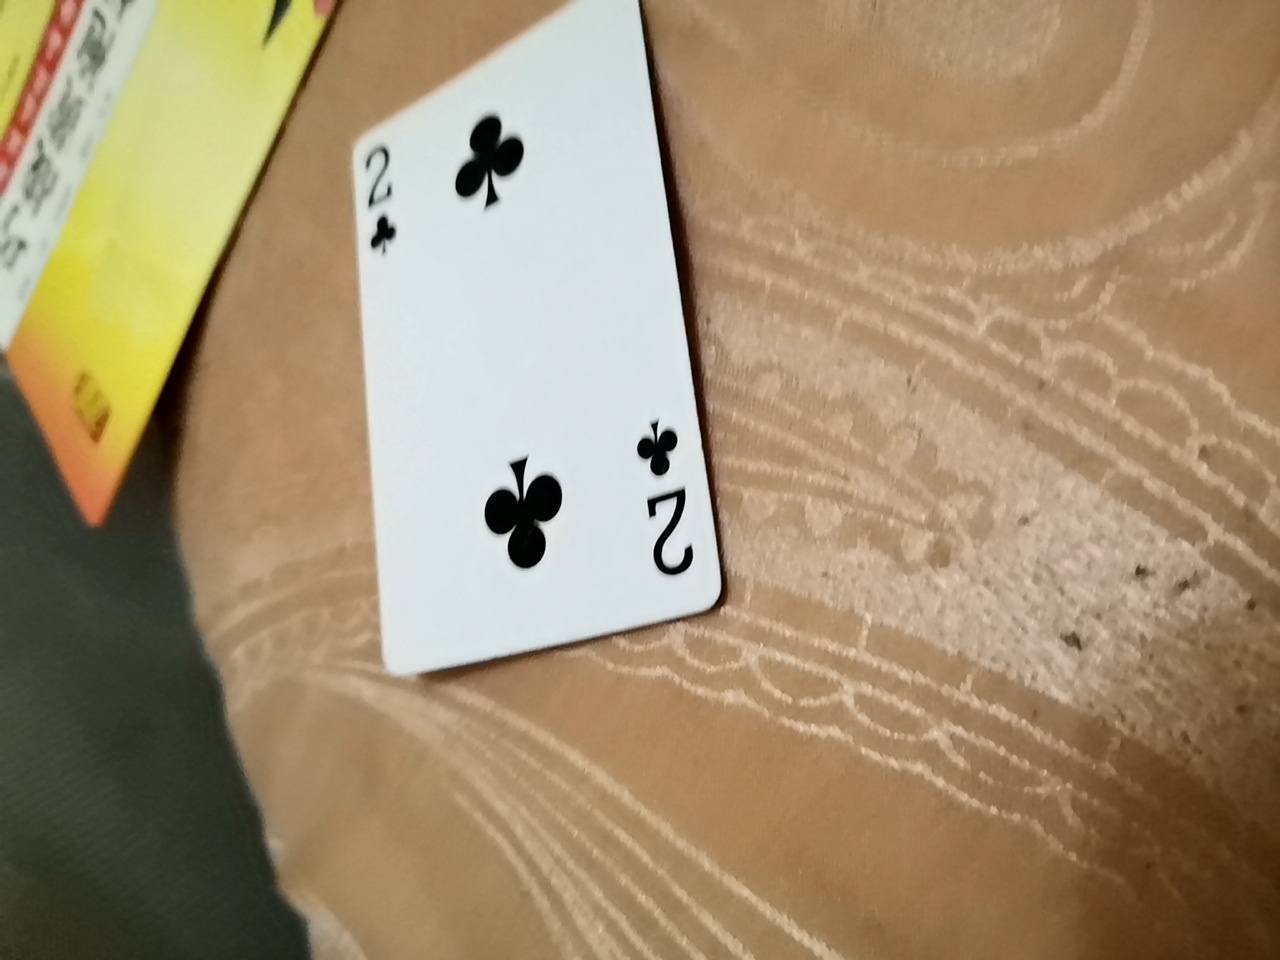mh 2: (340, 15, 682, 692)
